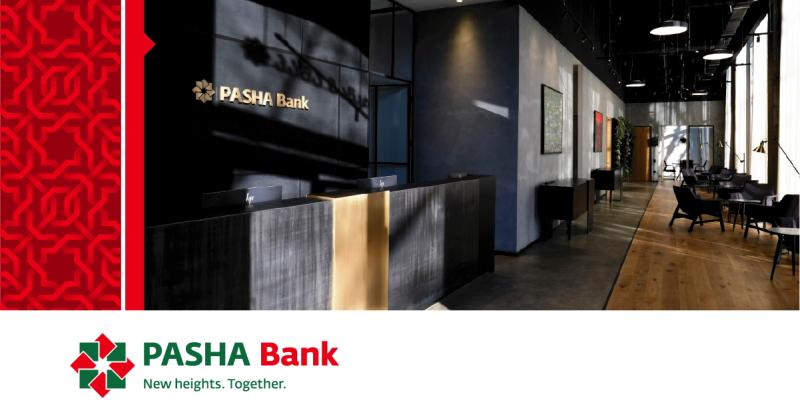Pasha Bank: (68, 330, 138, 400), (191, 77, 216, 103)
